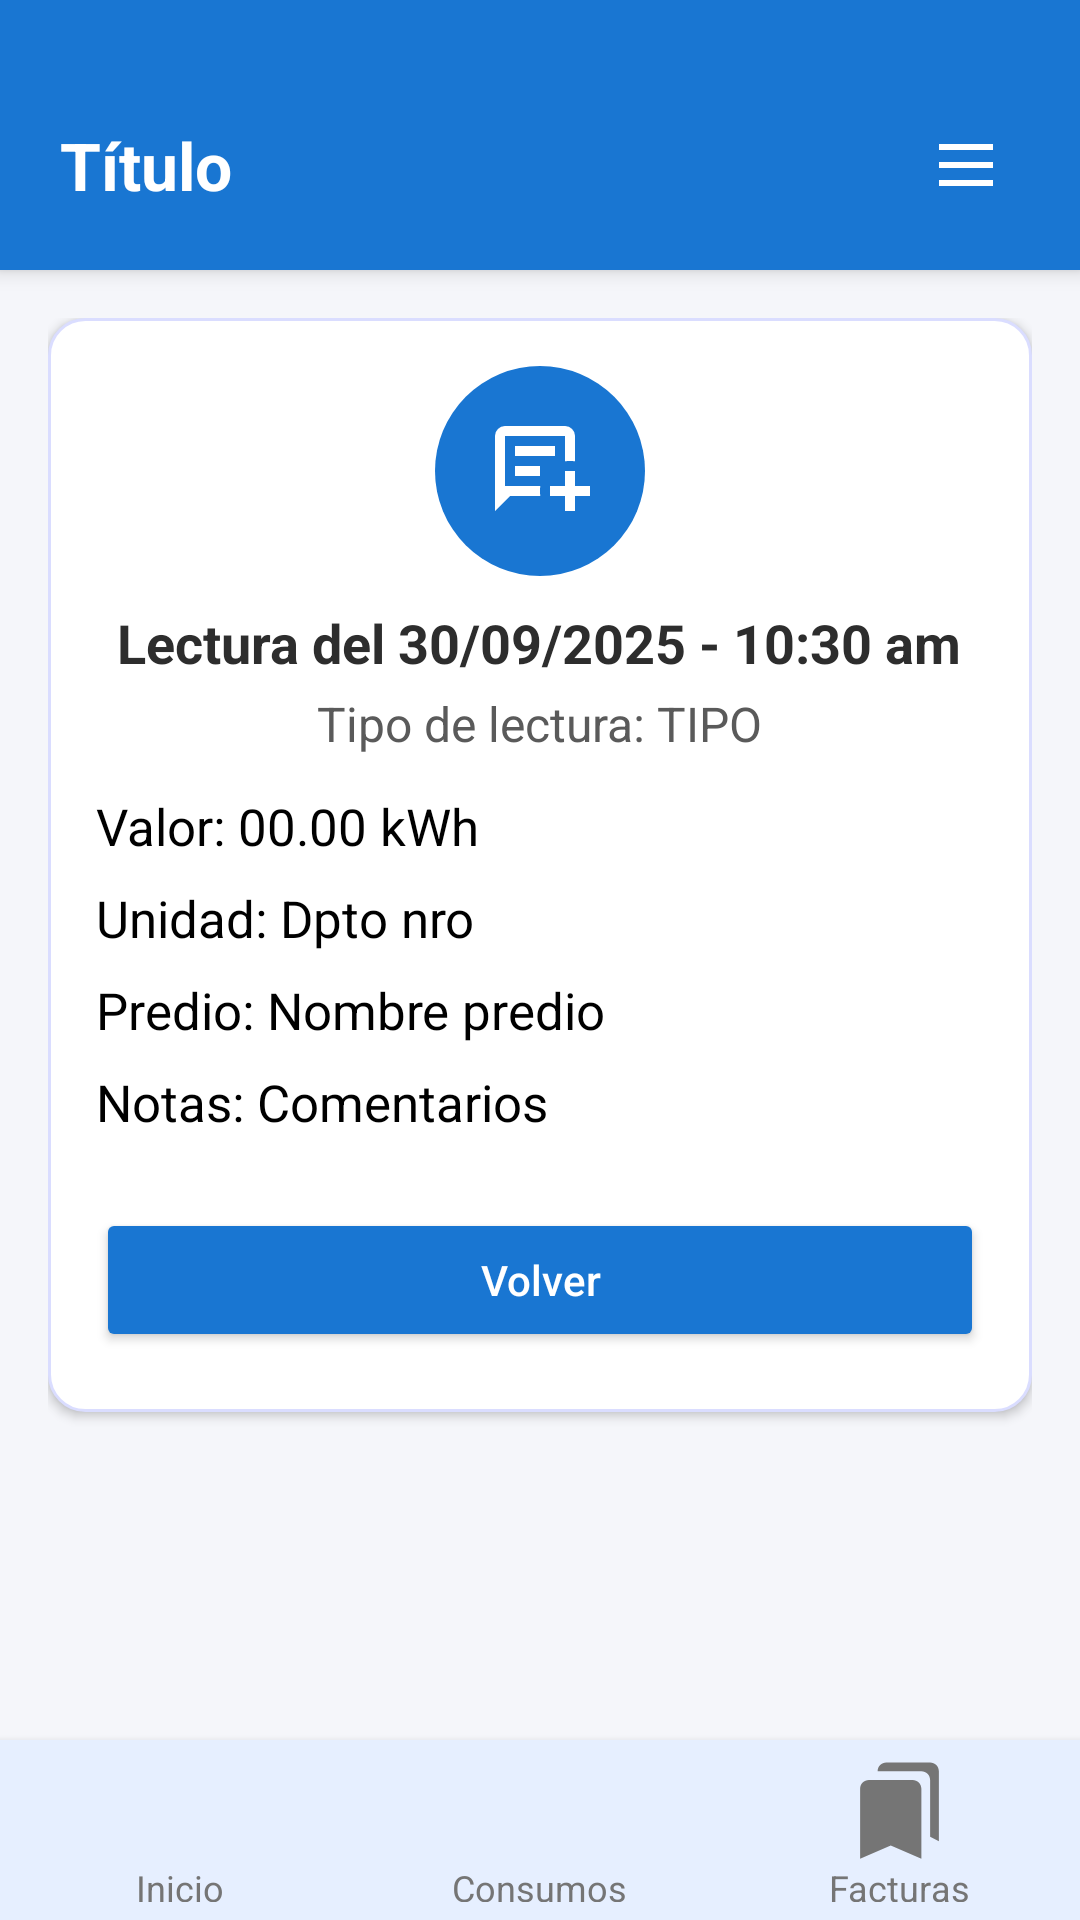

Icon click points for this 1080px×1920px phone screenshot, format point (x, y):
Menú principal: point (966, 165)
